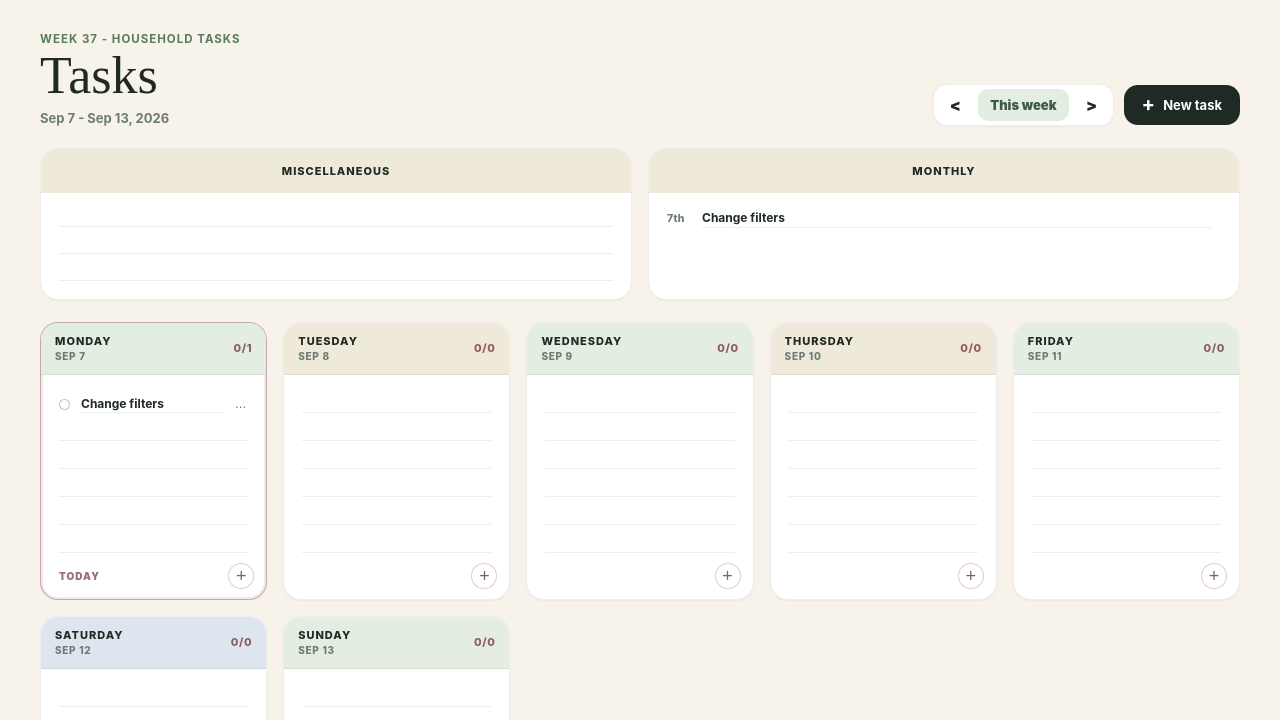
Test: TodoTasks › the day checklist labels each schedule kind
Click the button "Monday Sep 7 0/1 Change filters ... Today +": (154, 461) [40,322,267,600]
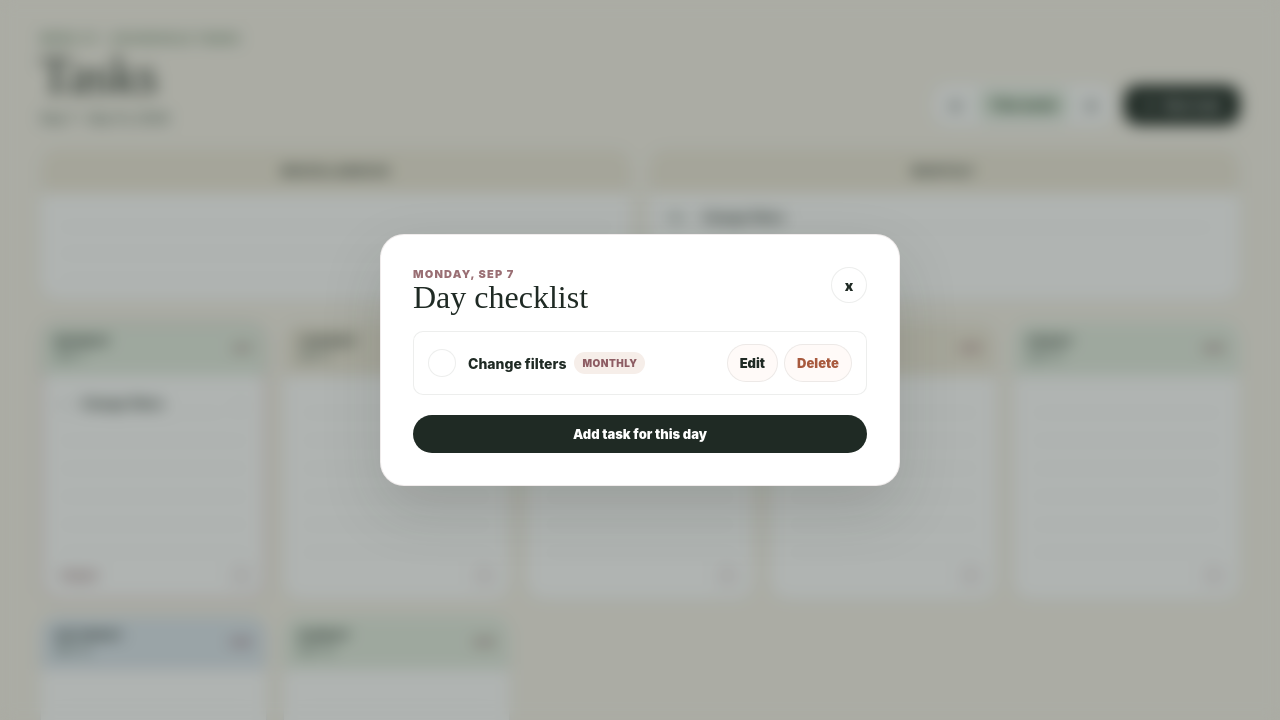
Expected: the text "Monthly" is shown, [574,352,645,374]
